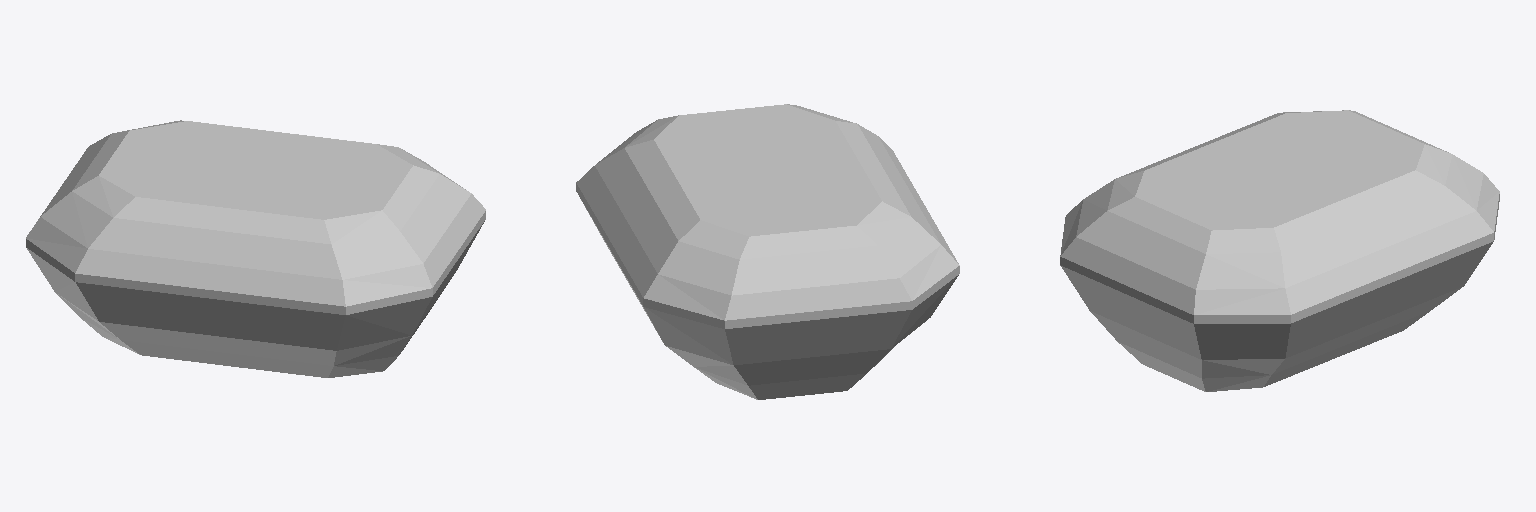
The model's file is emerald2.obj.
3 renders of one model, left to right at view 1: azimuth 30°, elevation 25°; view 2: azimuth 150°, elevation 25°; view 3: azimuth 270°, elevation 25°, orthographic.
Visible parts, largest first — view 1: pCube3; view 2: pCube3; view 3: pCube3.
Part boxes in pixels (x1,y1,x2,y2): pCube3: (26, 120, 485, 377); pCube3: (576, 104, 959, 399); pCube3: (1060, 110, 1499, 391).
Bounding box in the file's own units: 2.49 × 1.09 × 2.53.